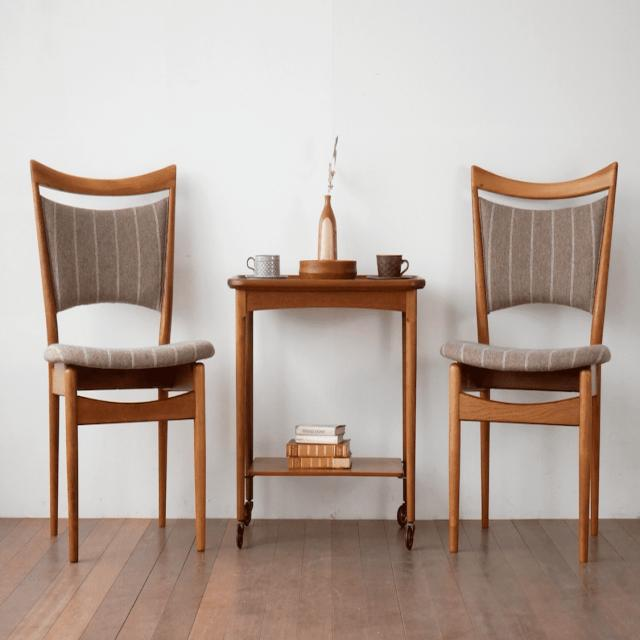chair vintage: (433, 146, 619, 567), (23, 154, 216, 557)
